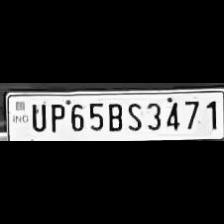1: (202, 98, 220, 130)
3: (144, 99, 162, 131)
4: (162, 98, 180, 130)
5: (86, 99, 104, 131)
6: (67, 100, 85, 132)
7: (182, 98, 200, 130)
B: (104, 99, 124, 131)
P: (47, 100, 65, 132)
S: (124, 99, 144, 131)
U: (28, 102, 46, 132)
